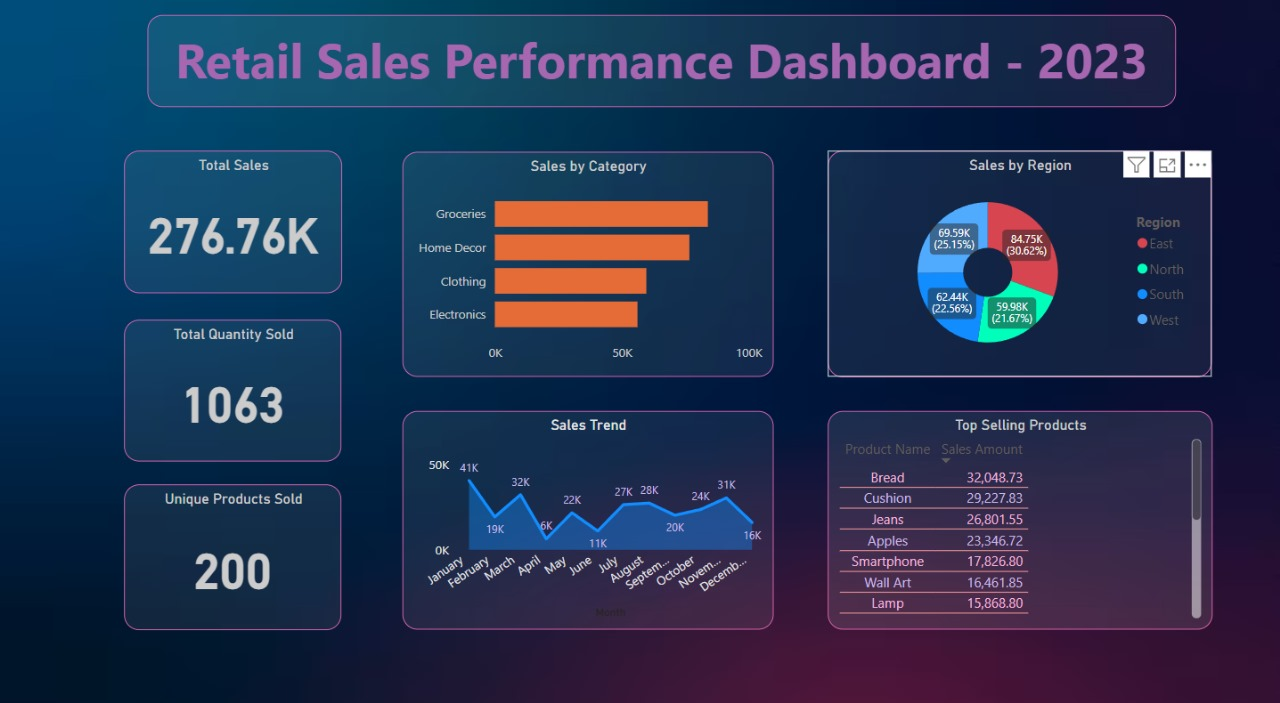

What the dashboard file says about the page in this screenshot:
{"tool":"powerbi","page":{"name":"Page 1","canvas":[1280,720],"ordinal":0},"visuals":[{"type":"textbox","box":[148.3,16.7,1026.7,91.7],"z":0},{"type":"clusteredBarChart","title":"Sales by Category","fields":{"Y":["Sum(Retail_Sales_Data (1).Sales Amount)"],"Category":["Retail_Sales_Data (1).Product Category"]},"box":[403.8,153.8,370,225],"z":1000},{"type":"donutChart","title":"Sales by Region","fields":{"Y":["Sum(Retail_Sales_Data (1).Sales Amount)"],"Series":["Retail_Sales_Data (1).Region"]},"box":[828,152,383,226],"z":2000},{"type":"lineChart","title":"Sales Trend","fields":{"Category":["Retail_Sales_Data (1).Date.Variation.Date Hierarchy.Month"],"Y":["Sum(Retail_Sales_Data (1).Sales Amount)"]},"box":[403.8,412.5,370,218.8],"z":3000},{"type":"tableEx","title":"Top Selling Products","fields":{"Values":["Retail_Sales_Data (1).Product Name","Sum(Retail_Sales_Data (1).Sales Amount)"]},"box":[827.5,412.5,383.8,218.8],"z":4000},{"type":"card","title":"Total Sales","fields":{"Values":["Sum(Retail_Sales_Data (1).Sales Amount)"]},"box":[125,152.5,217.5,142.5],"z":5000},{"type":"card","title":"Total Quantity Sold","fields":{"Values":["Sum(Retail_Sales_Data (1).Quantity Sold)"]},"box":[125.7,321.4,217.1,141.4],"z":6000},{"type":"card","title":"Unique Products Sold","fields":{"Values":["CountNonNull(Retail_Sales_Data (1).Product Name)"]},"box":[125.7,485.7,217.1,145.7],"z":7000}]}

Visuals, with their boxes in screenshot pixels (x1, y1, x2, y2), scaled from the page's 1280x720 canvas onto the 1280x703 screenshot:
textbox: l=148, t=16, r=1175, b=106
"Sales by Category" clusteredBarChart: l=404, t=150, r=774, b=370
"Sales by Region" donutChart: l=828, t=148, r=1211, b=369
"Sales Trend" lineChart: l=404, t=403, r=774, b=616
"Top Selling Products" tableEx: l=828, t=403, r=1211, b=616
"Total Sales" card: l=125, t=149, r=342, b=288
"Total Quantity Sold" card: l=126, t=314, r=343, b=452
"Unique Products Sold" card: l=126, t=474, r=343, b=616
